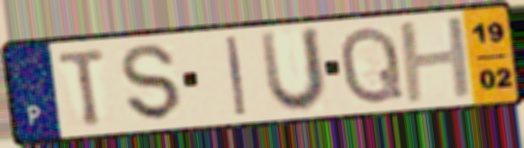H: (395, 13, 477, 107)
I: (222, 34, 249, 119)
Q: (337, 23, 408, 108)
S: (119, 42, 185, 123)
T: (55, 45, 110, 130)
U: (256, 24, 329, 116)
